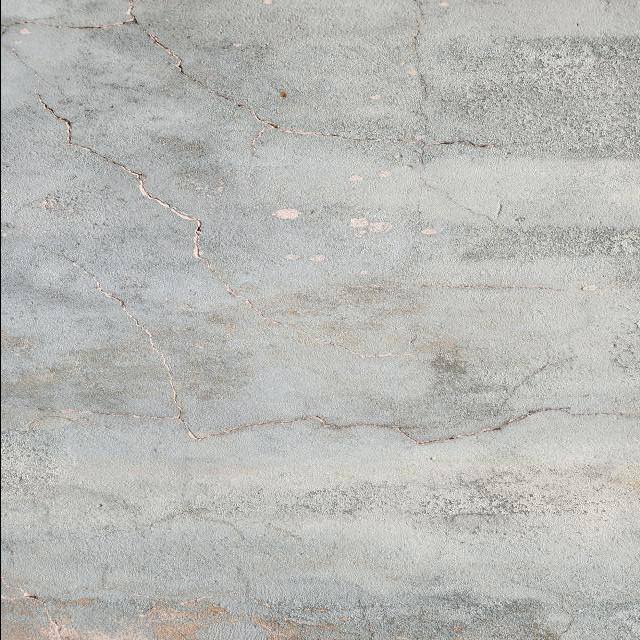SurfaceCrack: (1, 350, 640, 483)
